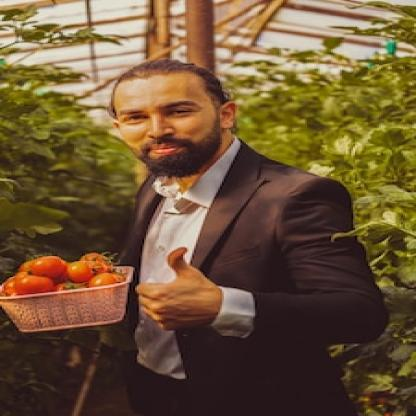thumb_up: (132, 244, 218, 334)
